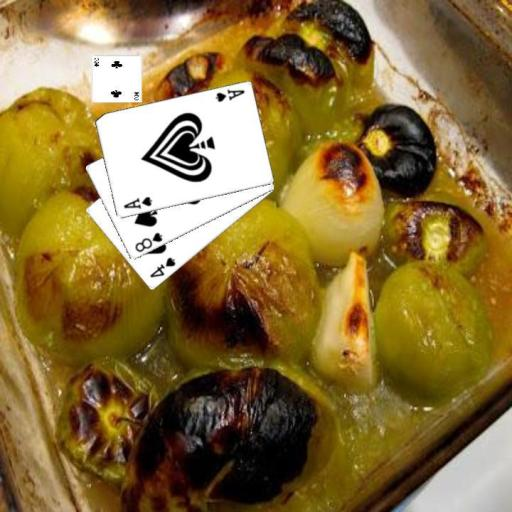4S: (147, 255, 177, 280)
8S: (132, 230, 164, 254)
AS: (120, 194, 154, 211), (212, 87, 246, 104)
